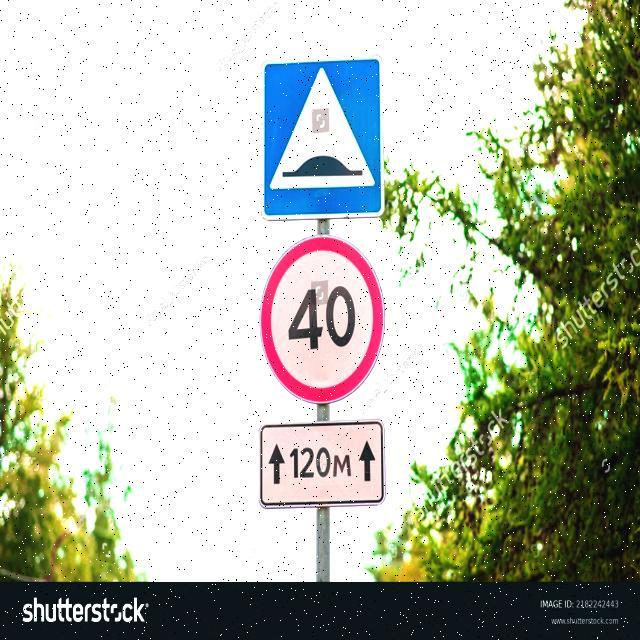Traffic sign: (253, 51, 391, 514)
